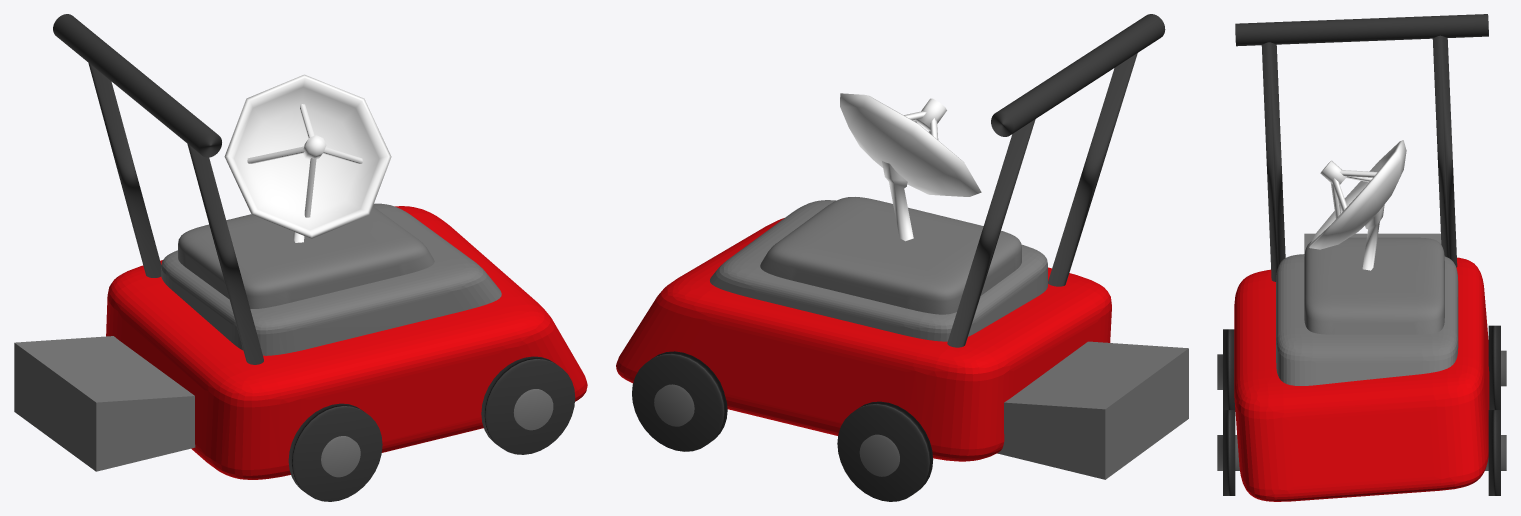
Rendered from Mower.fbx.
3 renders of one model, left to right at view 1: azimuth 30°, elevation 25°; view 2: azimuth 150°, elevation 25°; view 3: azimuth 270°, elevation 25°, orthographic. The views are drawn at different scales.
Visible parts, largest first — view 1: Cube, Cube.003, SM_Prop_SatelliteDish_01, Cube.001, Cylinder.002, Cylinder.010; view 2: Cube, Cube.003, Cylinder.002, Cylinder.010, Cube.001, SM_Prop_SatelliteDish_01; view 3: Cube, Cube.003, Cylinder.010, Cube.001, SM_Prop_SatelliteDish_01, Cylinder.002.
Part boxes in pixels (x1,y1,x2,y2): Cube: (106,206,587,479); Cube.003: (14,206,434,471); SM_Prop_SatelliteDish_01: (224,74,391,242); Cube.001: (161,203,501,355); Cylinder.002: (288,356,575,501); Cylinder.010: (53,14,263,364); Cube: (616,218,1111,461); Cube.003: (760,197,1188,479); Cylinder.002: (632,351,933,501); Cylinder.010: (947,14,1165,347); Cube.001: (710,200,1047,341); SM_Prop_SatelliteDish_01: (840,93,981,241); Cube: (1234,257,1489,501); Cube.003: (1304,233,1444,334); Cylinder.010: (1235,14,1488,281); Cube.001: (1276,254,1458,385); SM_Prop_SatelliteDish_01: (1309,140,1406,270); Cylinder.002: (1217,325,1506,495).
Bounding box in the file's own units: 171 × 140 × 106.
